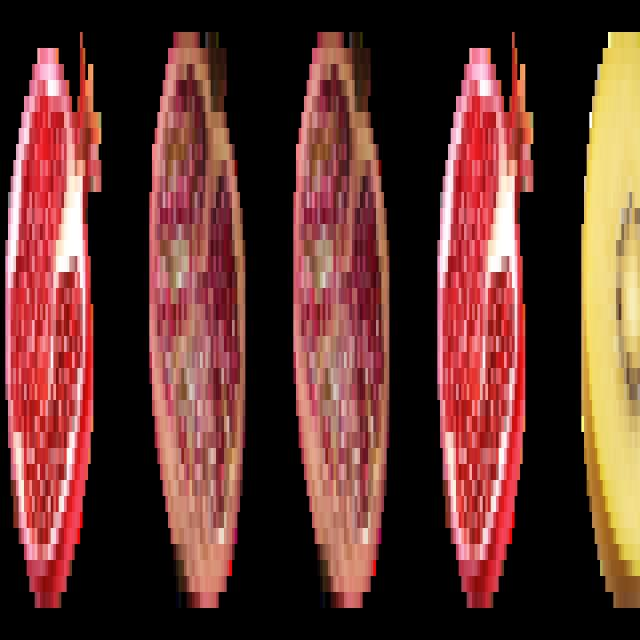pomegranate: (433, 9, 537, 628), (146, 16, 248, 629), (3, 19, 104, 626), (292, 16, 391, 631)
